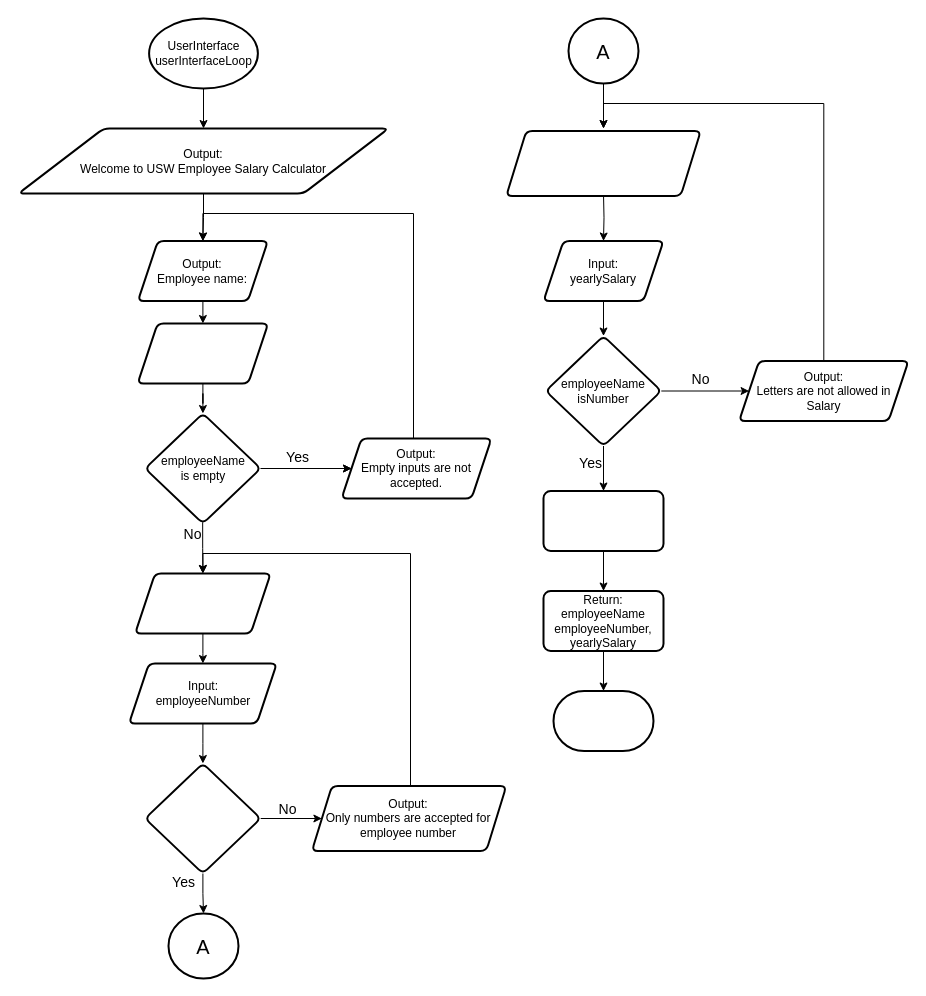
Some shapes in this 926 by 996 pixel diagram are drawn without their labels. The shapes that lost their labels are listed below. From the top down, each one's centre as x and y in pixels, then its label:
At (603,163): "Output: Yearly salary:".
At (202,353): "Input: employeeName".
At (603,521): "Round yearSalary to 2 decimal place".
At (202,603): "Output: Employee number:".
At (603,721): "Stop".
At (202,818): "employeeNumber isNumber".
